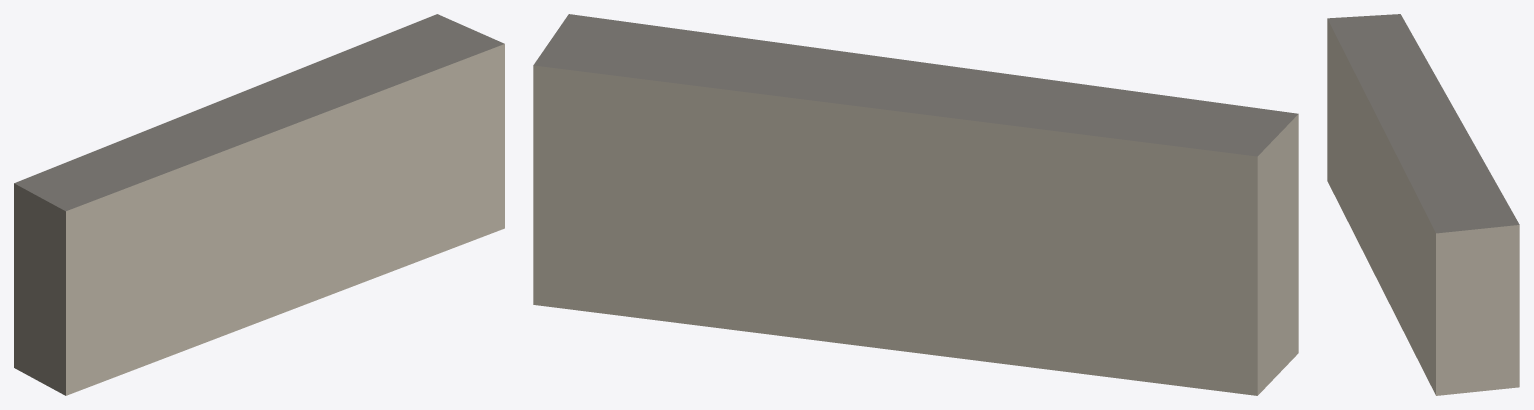
The picture shows the model from 3 angles, left to right: view 1: azimuth 30°, elevation 25°; view 2: azimuth 150°, elevation 25°; view 3: azimuth 270°, elevation 25°; orthographic projection. The views are drawn at different scales.
Visible parts, largest first — view 1: HP-w1058562707; view 2: HP-w1058562707; view 3: HP-w1058562707.
Part boxes in pixels (x1,y1,x2,y2): HP-w1058562707: (14, 14, 504, 395); HP-w1058562707: (533, 14, 1298, 395); HP-w1058562707: (1327, 14, 1519, 395).
Size of the model in its own units: 52.14 by 18 by 19.33.
